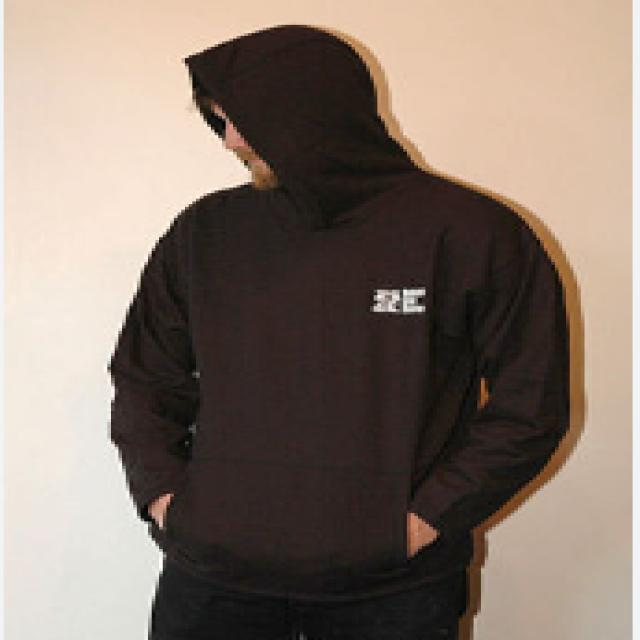4_capucha: (182, 22, 418, 230)
